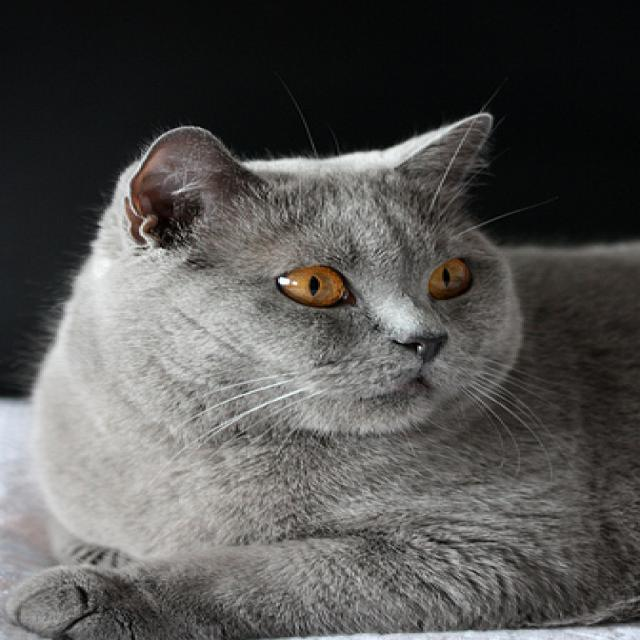British Shorthair: (2, 106, 640, 640)
